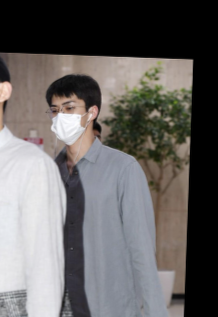with_mask: (50, 97, 89, 146)
